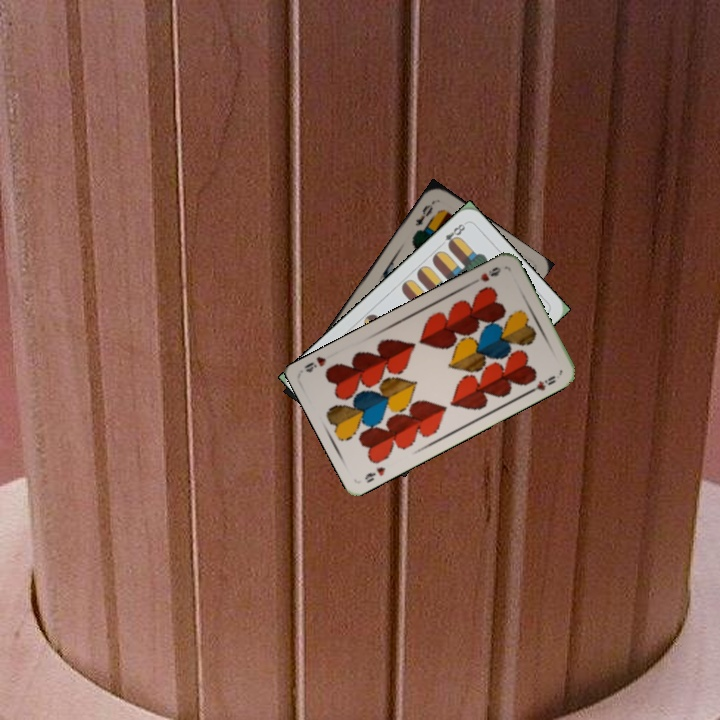E8: (440, 219, 469, 250)
EO: (411, 197, 437, 229)
H9: (467, 262, 503, 287), (361, 463, 388, 485)
